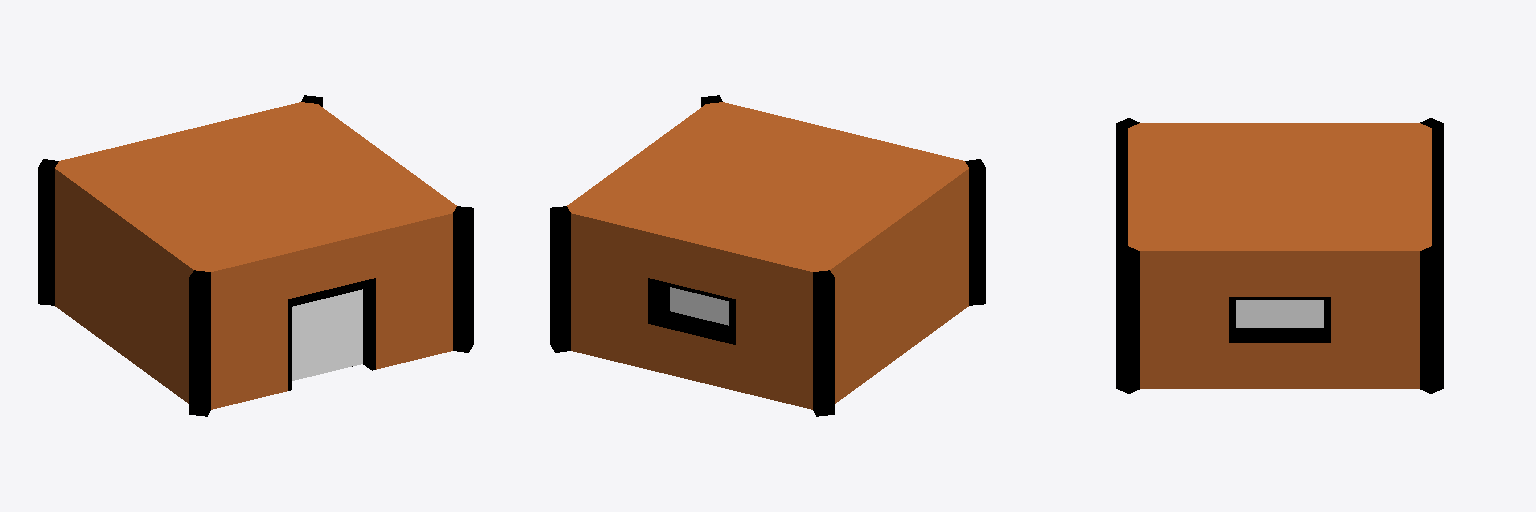
The model's file is HouseBox.obj.
3 renders of one model, left to right at view 1: azimuth 30°, elevation 25°; view 2: azimuth 150°, elevation 25°; view 3: azimuth 270°, elevation 25°, orthographic.
Parts seen in each view (by area): view 1: HouseBox; view 2: HouseBox; view 3: HouseBox.
Part boxes in pixels (x1,y1,x2,y2): HouseBox: (38,95,473,416); HouseBox: (550,95,985,416); HouseBox: (1116,118,1443,393).
Size of the model in its own units: 2.16 by 1 by 2.16.